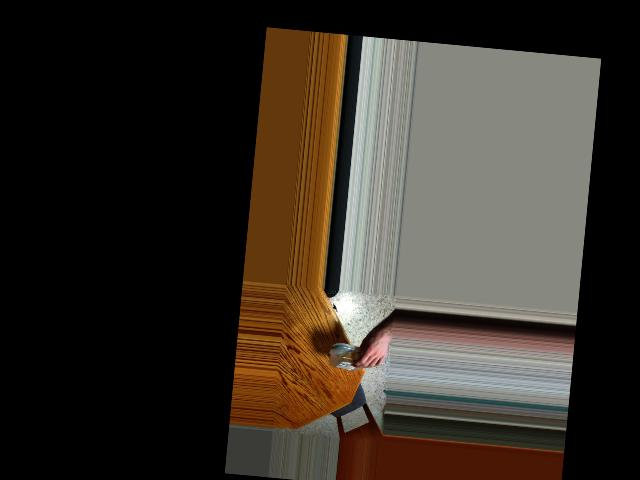cheese: (327, 325, 369, 380)
